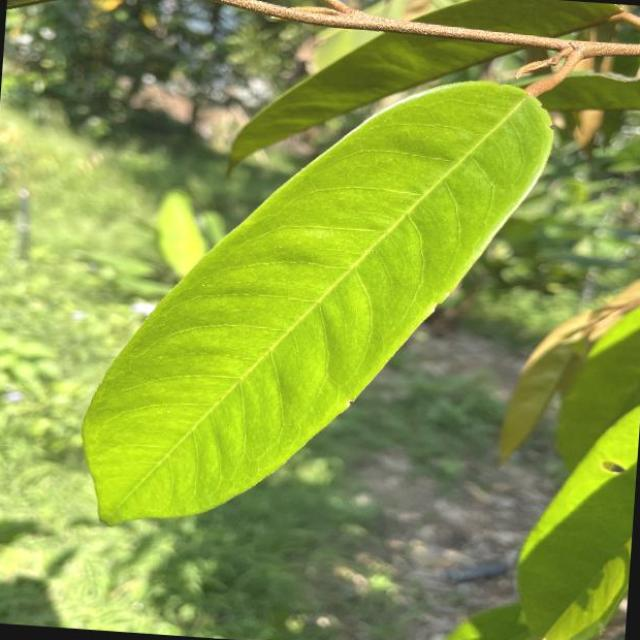No Disease: (67, 43, 564, 565)
